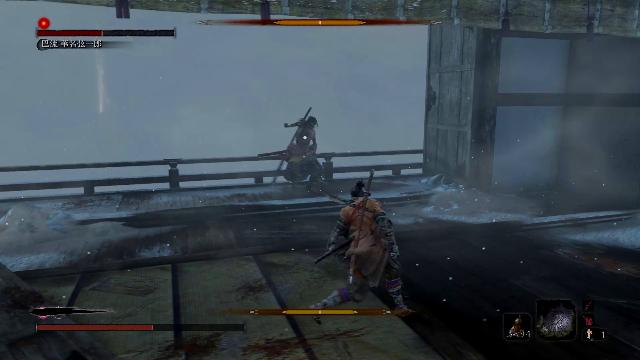sk: (306, 177, 420, 326)
